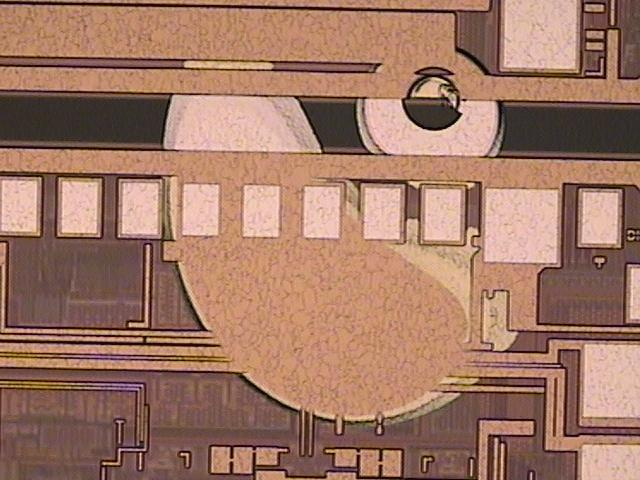BLOCK ETCH: (156, 10, 551, 437)
